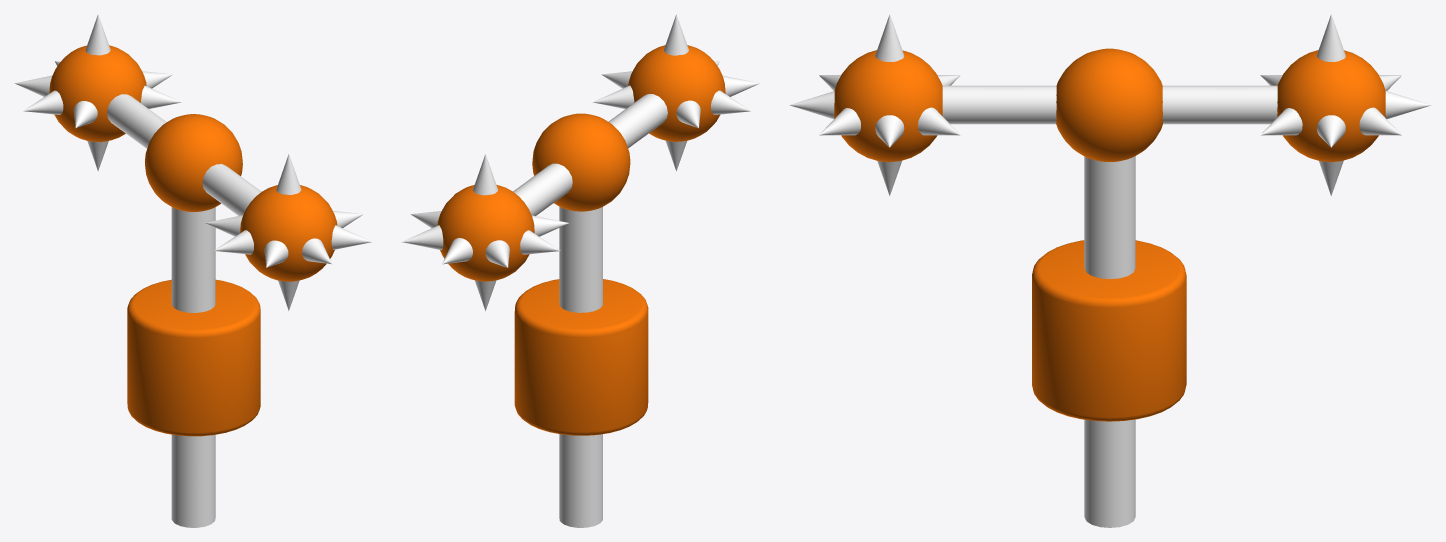
The model's file is 14 Xoay 2 been.fbx.
3 renders of one model, left to right at view 1: azimuth 30°, elevation 25°; view 2: azimuth 150°, elevation 25°; view 3: azimuth 270°, elevation 25°, orthographic. The views are drawn at different scales.
Parts seen in each view (by area): view 1: Cylinder_2, Cylinder_1, Sphere_1, Sphere, Sphere_2, Cone, Cylinder, Cone_2; view 2: Cylinder_2, Cylinder_1, Sphere_1, Sphere_2, Sphere, Cone_2, Cylinder, Cone; view 3: Cylinder_2, Cylinder_1, Sphere_1, Cylinder, Sphere_2, Sphere, Cone_2, Cone.
Part boxes in pixels (left/top/right/bottom): Cylinder_2: left=127, top=279, right=260, bottom=436; Cylinder_1: left=171, top=207, right=215, bottom=527; Sphere_1: left=145, top=114, right=242, bottom=211; Sphere: left=240, top=185, right=337, bottom=281; Sphere_2: left=49, top=45, right=146, bottom=142; Cone: left=205, top=154, right=372, bottom=310; Cylinder: left=107, top=94, right=261, bottom=215; Cone_2: left=14, top=14, right=181, bottom=171; Cylinder_2: left=514, top=279, right=648, bottom=435; Cylinder_1: left=559, top=207, right=602, bottom=527; Sphere_1: left=532, top=113, right=630, bottom=211; Sphere_2: left=437, top=185, right=534, bottom=281; Sphere: left=628, top=45, right=725, bottom=141; Cone_2: left=402, top=154, right=568, bottom=310; Cylinder: left=513, top=94, right=667, bottom=215; Cone: left=593, top=14, right=759, bottom=171; Cylinder_2: left=1032, top=240, right=1186, bottom=421; Cylinder_1: left=1084, top=156, right=1135, bottom=527; Sphere_1: left=1056, top=48, right=1162, bottom=161; Cylinder: left=942, top=85, right=1277, bottom=124; Sphere_2: left=1277, top=50, right=1385, bottom=162; Sphere: left=834, top=50, right=942, bottom=162; Cone_2: left=1260, top=14, right=1431, bottom=195; Cone: left=789, top=14, right=960, bottom=195.
Bounding box in the file's own units: 28.29 × 78 × 90.32.
